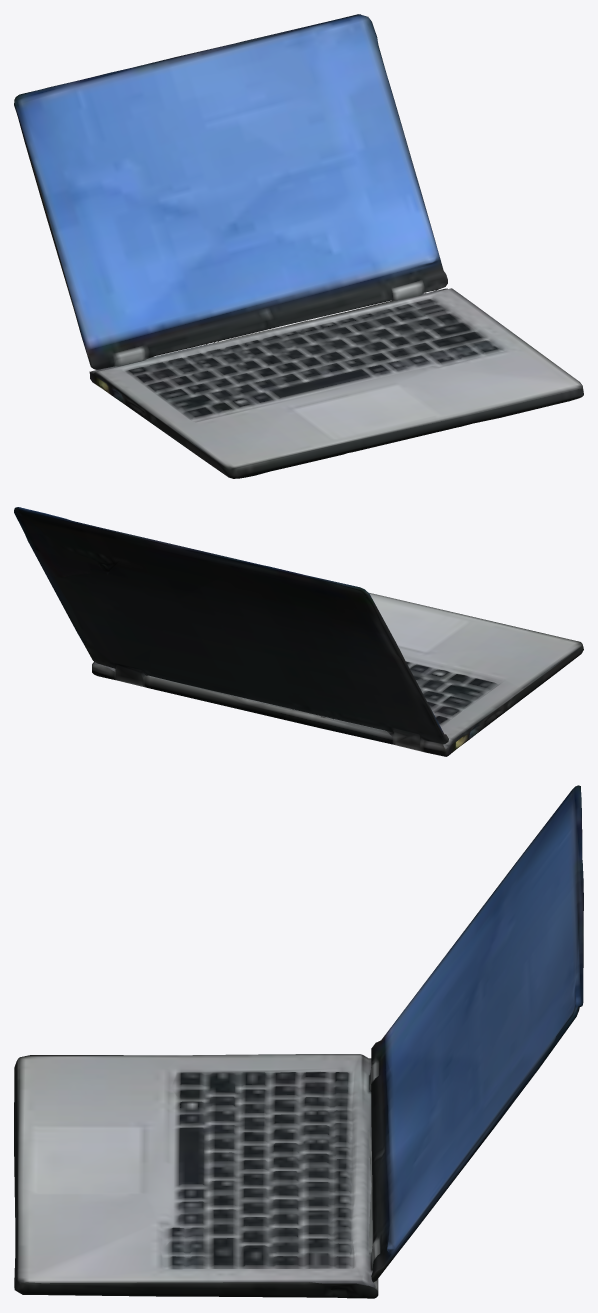
Rendered from Lenovo_Yoga_2_11-high.glb.
3 views of the same model, one above another, from view 1: azimuth 30°, elevation 25°; view 2: azimuth 150°, elevation 25°; view 3: azimuth 270°, elevation 25° (orthographic). The views are drawn at different scales.
Parts seen in each view (by area): view 1: Lenovo_Yoga_2_11; view 2: Lenovo_Yoga_2_11; view 3: Lenovo_Yoga_2_11.
Part boxes in pixels (<box>): Lenovo_Yoga_2_11: <box>14,14,583,478</box>; Lenovo_Yoga_2_11: <box>14,507,583,756</box>; Lenovo_Yoga_2_11: <box>14,785,583,1298</box>.
Bounding box in the file's own units: 0.2995 × 0.1853 × 0.3199.
1 material, 1 textured.
